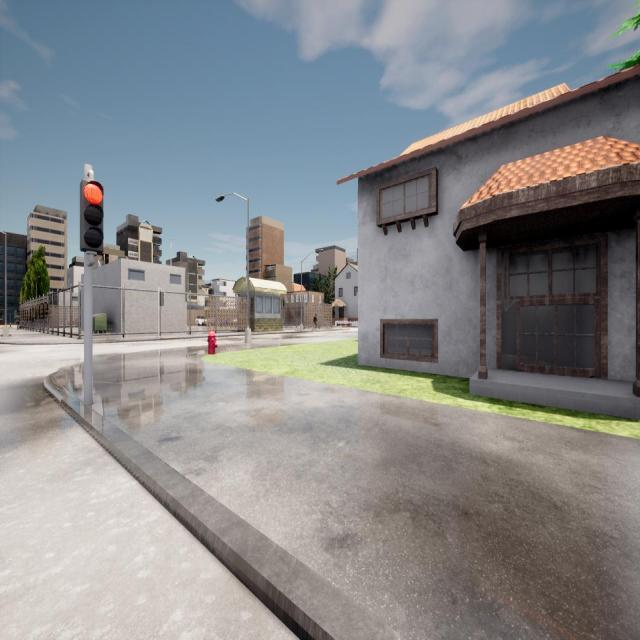Pedestrian: (14, 312, 20, 329), (313, 314, 318, 331)
Vehicle: (196, 315, 207, 327)
traffic_light: (80, 180, 104, 252), (160, 292, 164, 306)
